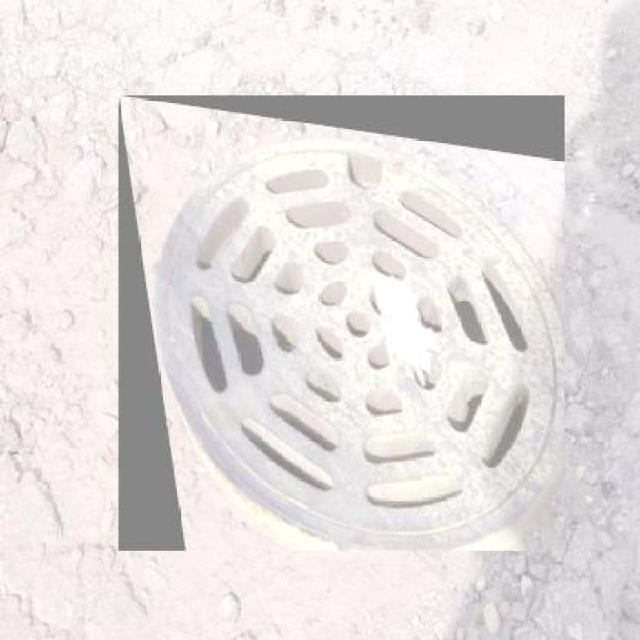Manhole: (118, 95, 564, 551)
